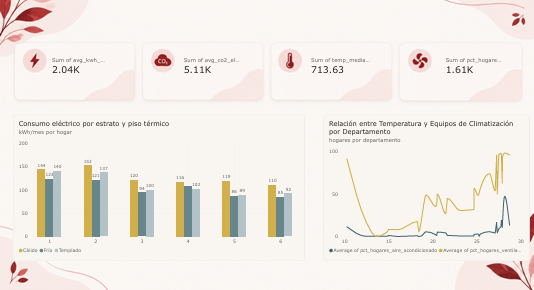

The page's visual inventory and layout, read from the dashboard file:
{"tool":"powerbi","page":{"name":"clima + datos","canvas":[1600,890],"ordinal":1},"visuals":[{"type":"clusteredColumnChart","title":"Consumo eléctrico por estrato y piso térmico","fields":{"Category":["Query3.estrato"],"Series":["Query3.piso_termico"],"Y":["Sum(Query3.avg_kwh_mensual)"]},"box":[38.5,353.8,875,440.1],"z":0},{"type":"lineChart","title":"Relación entre Temperatura y Equipos de Climatización por Departamento","fields":{"Category":["Query4.temp_media_c"],"Y":["Avg(Query4.pct_hogares_aire_acondicionado)","Avg(Query4.pct_hogares_ventilador)"]},"box":[969.2,353.8,619.2,440.4],"z":1000},{"type":"cardVisual","fields":{"Data":["Sum(Query4.temp_media_c)"]},"box":[915.8,152.6,213.5,113.5],"z":2000},{"type":"cardVisual","fields":{"Data":["Sum(Query4.avg_co2_electrico_kg)"]},"box":[534.2,152.6,200,113.5],"z":3000},{"type":"cardVisual","fields":{"Data":["Sum(Query3.avg_kwh_mensual)"]},"box":[139.5,152.6,200,113.5],"z":4000},{"type":"cardVisual","fields":{"Data":["Sum(Query4.pct_hogares_ventilador)"]},"box":[1320,152.5,200,113.5],"z":5000}]}

Visuals, with their boxes in screenshot pixels (x1, y1, x2, y2), scaled from the page's 1600x890 canvas onto the 534x290 screenshot:
"Consumo eléctrico por estrato y piso térmico" clusteredColumnChart: {"left": 13, "top": 115, "right": 305, "bottom": 259}
"Relación entre Temperatura y Equipos de Climatización por Departamento" lineChart: {"left": 323, "top": 115, "right": 530, "bottom": 259}
cardVisual - Sum(Query4.temp_media_c): {"left": 306, "top": 50, "right": 377, "bottom": 87}
cardVisual - Sum(Query4.avg_co2_electrico_kg): {"left": 178, "top": 50, "right": 245, "bottom": 87}
cardVisual - Sum(Query3.avg_kwh_mensual): {"left": 47, "top": 50, "right": 113, "bottom": 87}
cardVisual - Sum(Query4.pct_hogares_ventilador): {"left": 441, "top": 50, "right": 507, "bottom": 87}
